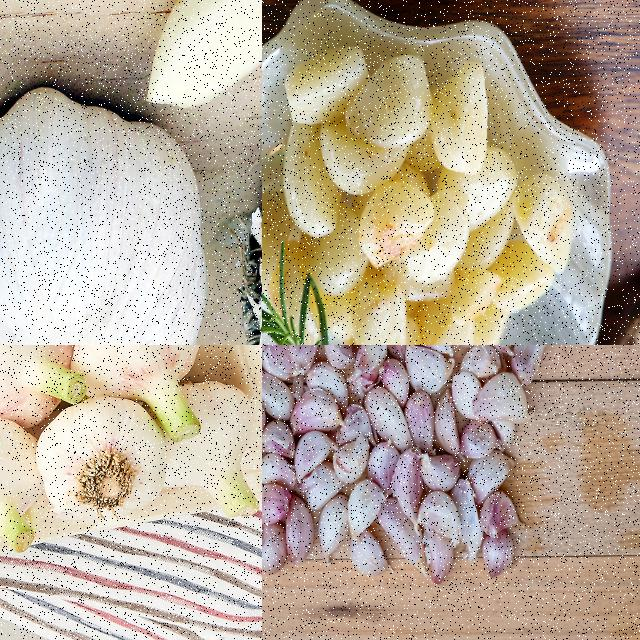garlic: (262, 50, 580, 344), (262, 345, 545, 578), (0, 84, 207, 344), (141, 376, 261, 518), (36, 395, 166, 521), (66, 345, 211, 445), (141, 0, 261, 107), (0, 345, 91, 433), (0, 413, 46, 554)
